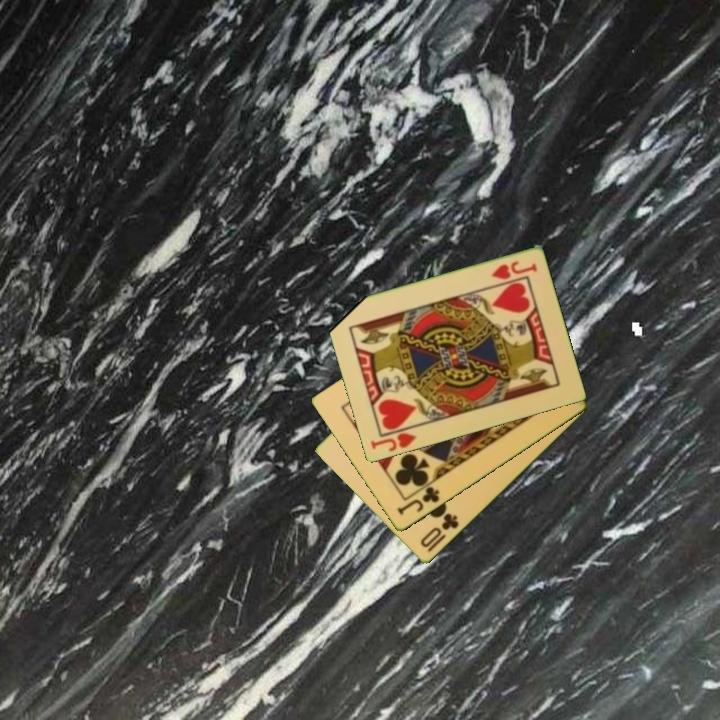10c: (417, 510, 462, 555)
Jc: (393, 483, 443, 518)
Jh: (367, 429, 419, 455), (488, 258, 540, 283)
